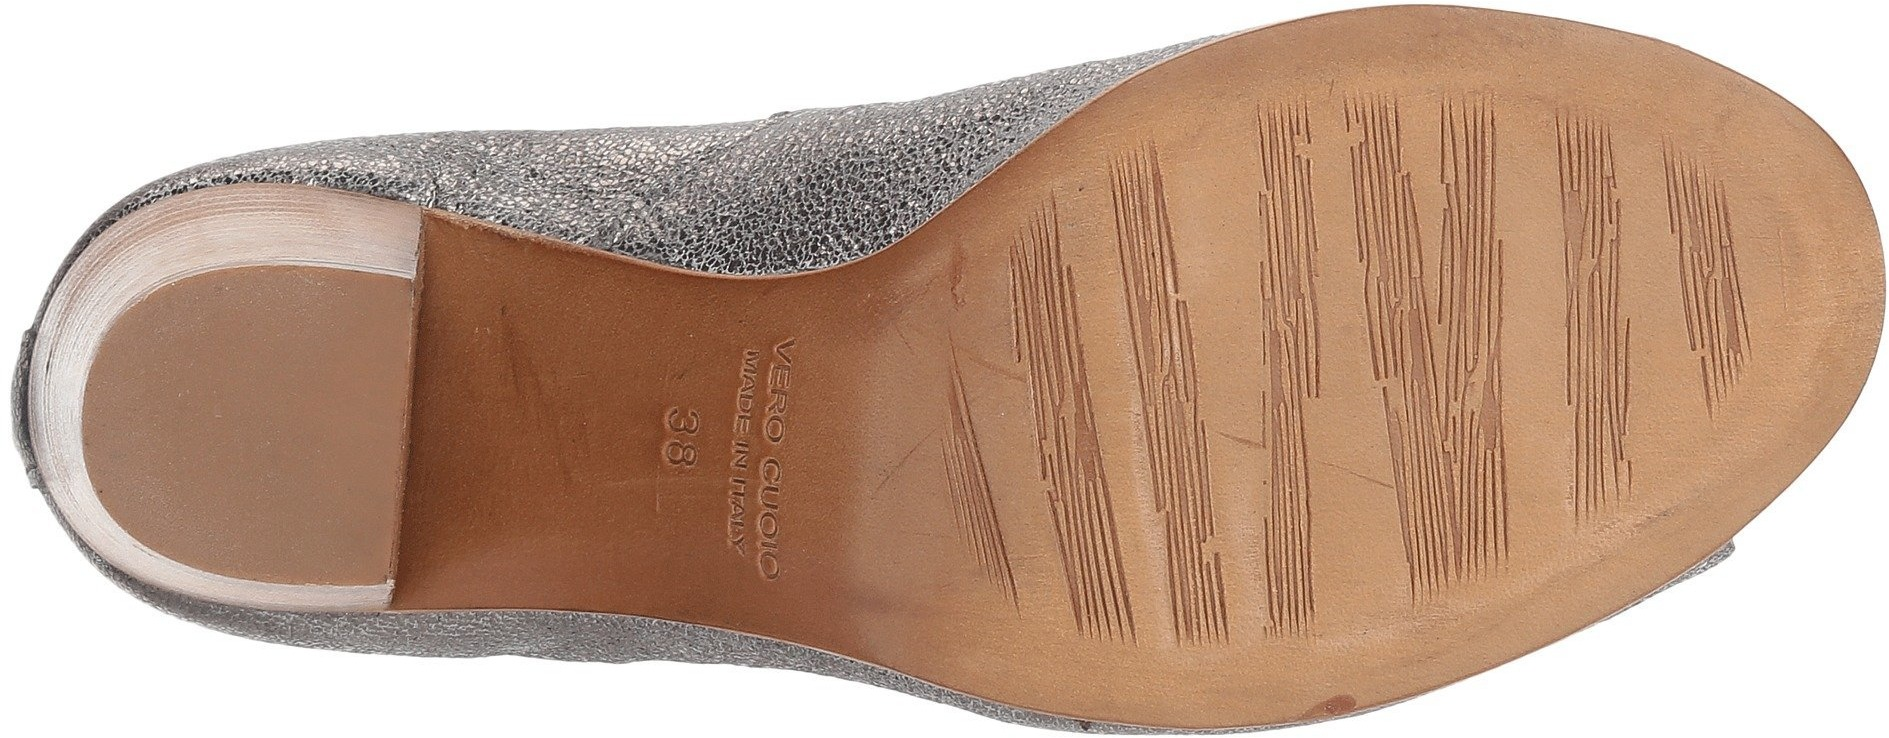other: (135, 315, 392, 575)
